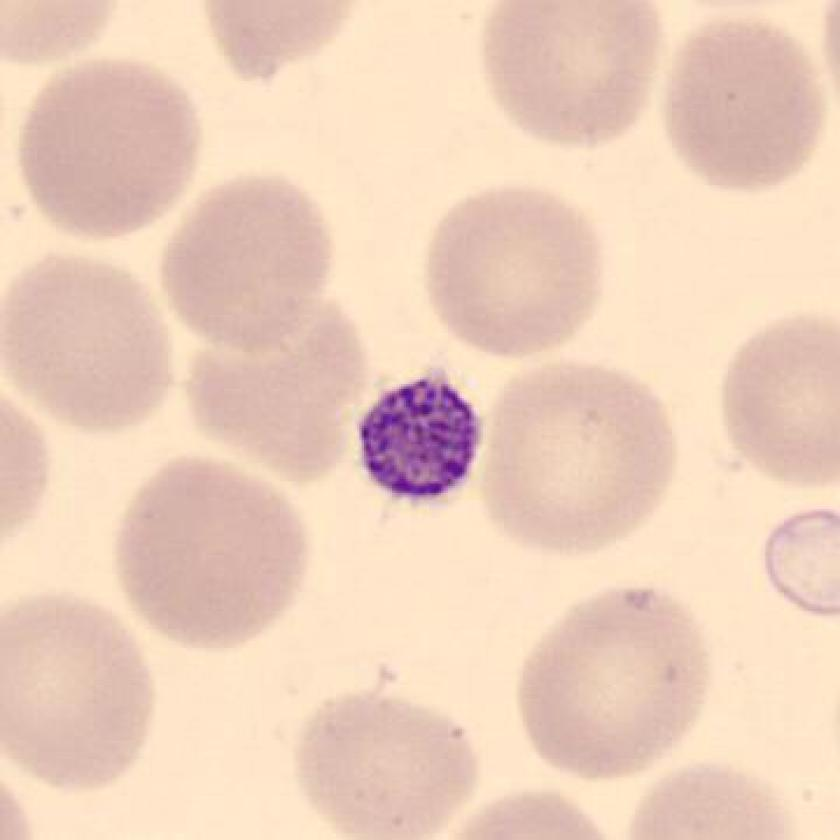platelets: (351, 374, 486, 508)
